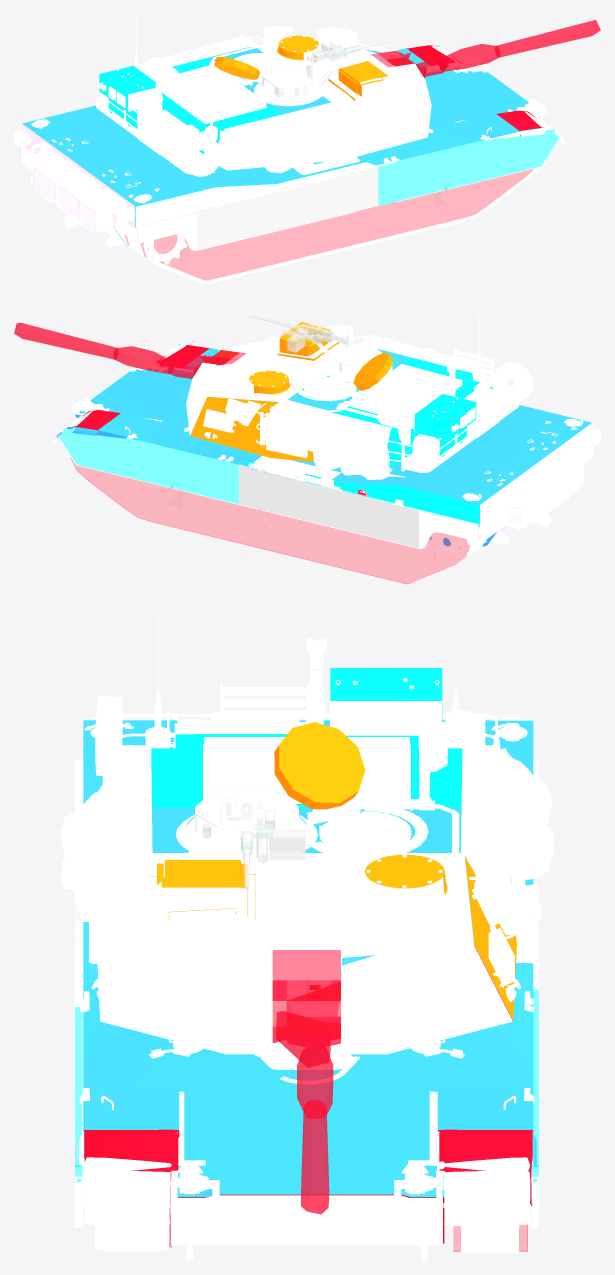
3 views of the same model, one above another, from view 1: azimuth 30°, elevation 25°; view 2: azimuth 150°, elevation 25°; view 3: azimuth 270°, elevation 25° (orthographic). The views are drawn at different scales.
Parts seen in each view (by area): view 1: 5001, 5001_3, m1a2_hull_colmesh001, m1a2_hull_track_right3, m1a2_sideskirt_col_right001, m1a2_sideskirt_col_right001_1, 5001_2, 5001_6, M1A2_Gun_ColMesh2_9, m1a1_usmc_turret_COL001, 5001_4, m1a1_usmc_turret_COL001_1 (+7 smaller); view 2: 5001, 5001_3, m1a2_hull_colmesh001, m1a2_hull_track_left3, m1a2_sideskirt_col_left001, m1a2_sideskirt_col_left001_1, 5001_1, m1a1_usmc_turret_COL001_1, 5001_6, 5001_4, m1a1_usmc_turret_COL001, M1A2_Gun_ColMesh2_9 (+7 smaller); view 3: 5001_3, m1a2_hull_colmesh001, 5001, m1a1_usmc_turret_COL001_1, M1A2_Gun_ColMesh2_9, 5001_4, m1a1_usmc_turret_COL001, 5001_6, m1a2_hull_colmesh001_1, 5001_7, m1a1_usmc_turret_COL001_3, M2_M1A1_Cupola_Weapon_Col_15 (+7 smaller).
Part boxes in pixels (x1,y1,x2,y2): 5001: [14, 46, 565, 278]; 5001_3: [96, 14, 431, 174]; m1a2_hull_colmesh001: [22, 48, 542, 246]; m1a2_hull_track_right3: [125, 169, 533, 280]; m1a2_sideskirt_col_right001: [135, 166, 378, 250]; m1a2_sideskirt_col_right001_1: [378, 129, 559, 205]; 5001_2: [126, 167, 538, 284]; 5001_6: [137, 27, 357, 176]; M1A2_Gun_ColMesh2_9: [371, 20, 600, 78]; m1a1_usmc_turret_COL001: [99, 58, 281, 170]; 5001_4: [101, 42, 361, 173]; m1a1_usmc_turret_COL001_1: [214, 35, 387, 100]; 5001: [53, 345, 600, 575]; 5001_3: [186, 314, 519, 472]; m1a2_hull_colmesh001: [56, 348, 591, 548]; m1a2_hull_track_left3: [70, 457, 483, 584]; m1a2_sideskirt_col_left001: [239, 464, 479, 548]; m1a2_sideskirt_col_left001_1: [59, 428, 240, 504]; 5001_1: [71, 458, 483, 583]; m1a1_usmc_turret_COL001_1: [190, 322, 392, 461]; 5001_6: [205, 347, 533, 457]; 5001_4: [205, 347, 504, 479]; m1a1_usmc_turret_COL001: [335, 357, 492, 468]; M1A2_Gun_ColMesh2_9: [14, 322, 245, 378]; 5001_3: [74, 613, 539, 1054]; m1a2_hull_colmesh001: [83, 720, 536, 1205]; 5001: [75, 713, 540, 1260]; m1a1_usmc_turret_COL001_1: [149, 722, 516, 1020]; M1A2_Gun_ColMesh2_9: [272, 950, 340, 1214]; 5001_4: [60, 710, 554, 963]; m1a1_usmc_turret_COL001: [151, 668, 462, 807]; 5001_6: [95, 683, 525, 955]; m1a2_hull_colmesh001_1: [83, 1129, 533, 1243]; 5001_7: [185, 791, 307, 855]; m1a1_usmc_turret_COL001_3: [152, 807, 474, 965]; M2_M1A1_Cupola_Weapon_Col_15: [228, 801, 305, 889].
Size of the model in its own units: 10.35 by 3.67 by 4.14.
